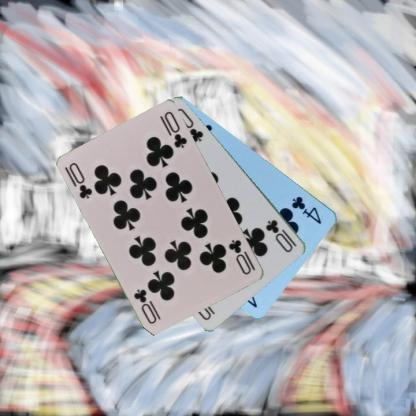10c: (263, 216, 298, 254), (62, 160, 94, 201), (226, 237, 253, 276)
4c: (289, 193, 323, 225)
